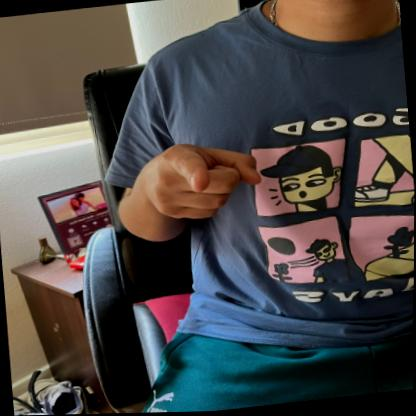X: (143, 136, 263, 230)
